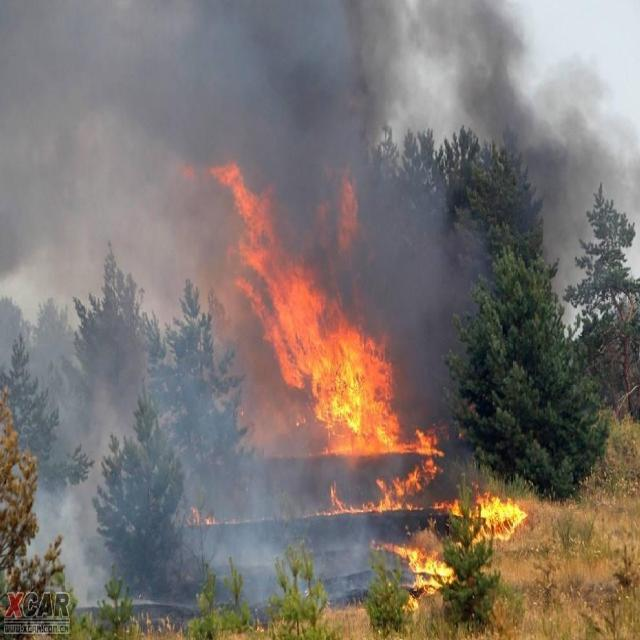Fire: (206, 161, 397, 460), (334, 428, 444, 514), (379, 534, 458, 626), (450, 490, 527, 546)
Smoke: (0, 1, 640, 193), (1, 193, 232, 640), (369, 190, 469, 423), (232, 465, 331, 613), (550, 194, 640, 318), (330, 516, 377, 607)
